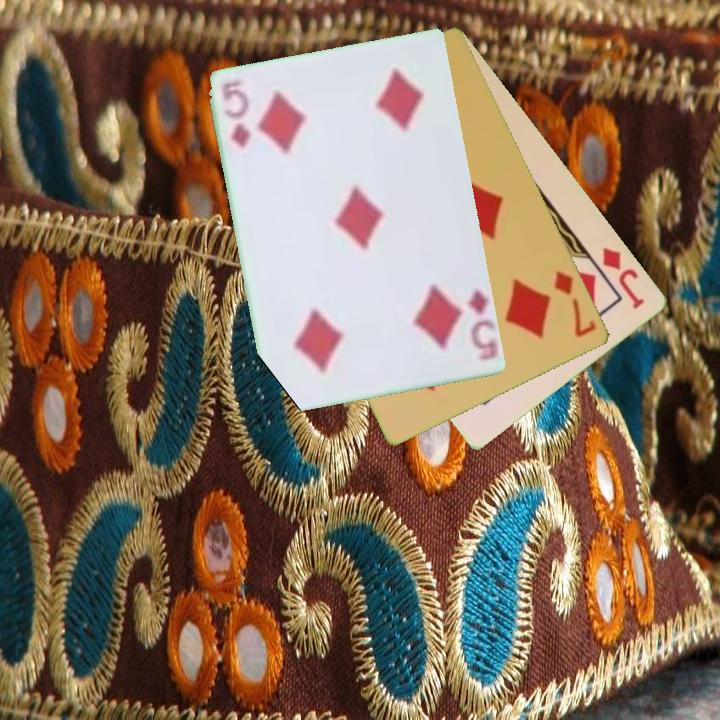5d: (218, 78, 252, 151), (465, 284, 497, 361)
7d: (551, 267, 600, 341)
Jd: (599, 243, 649, 312)
